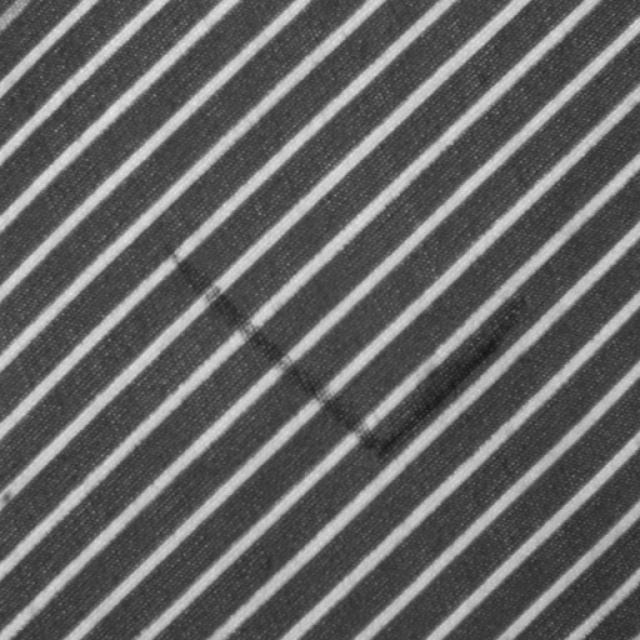Stain-Defect: (154, 238, 530, 469)
